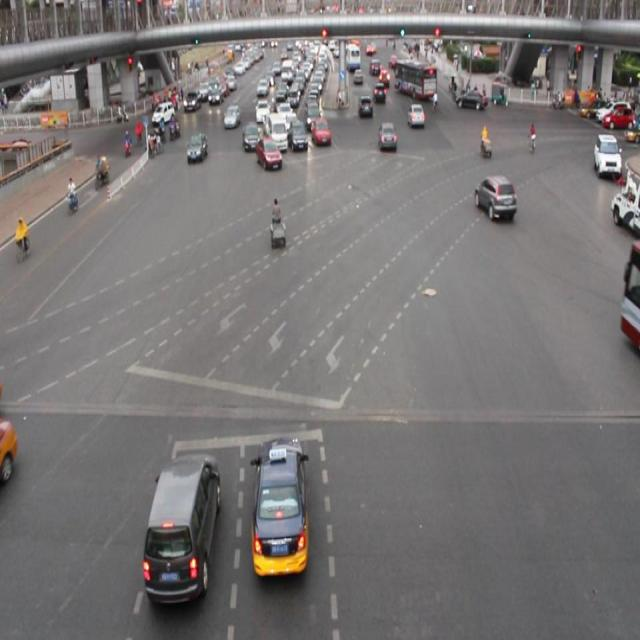car: (251, 435, 310, 577), (473, 174, 517, 224), (0, 415, 16, 475), (256, 136, 281, 170), (185, 132, 209, 164), (287, 119, 308, 152), (377, 120, 397, 152), (312, 116, 331, 148), (242, 122, 260, 151), (406, 103, 425, 126)
truck: (143, 452, 221, 608), (267, 112, 287, 151)
van: (618, 247, 640, 353)
